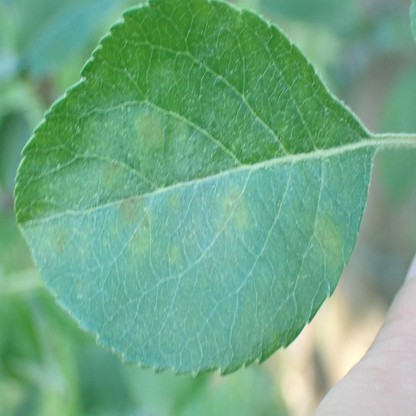scab: (309, 216, 342, 270), (217, 188, 247, 232), (134, 109, 162, 150), (133, 217, 152, 255), (120, 195, 139, 223), (101, 158, 120, 184), (49, 230, 65, 259), (171, 189, 183, 215), (169, 244, 183, 265), (175, 121, 186, 142)
